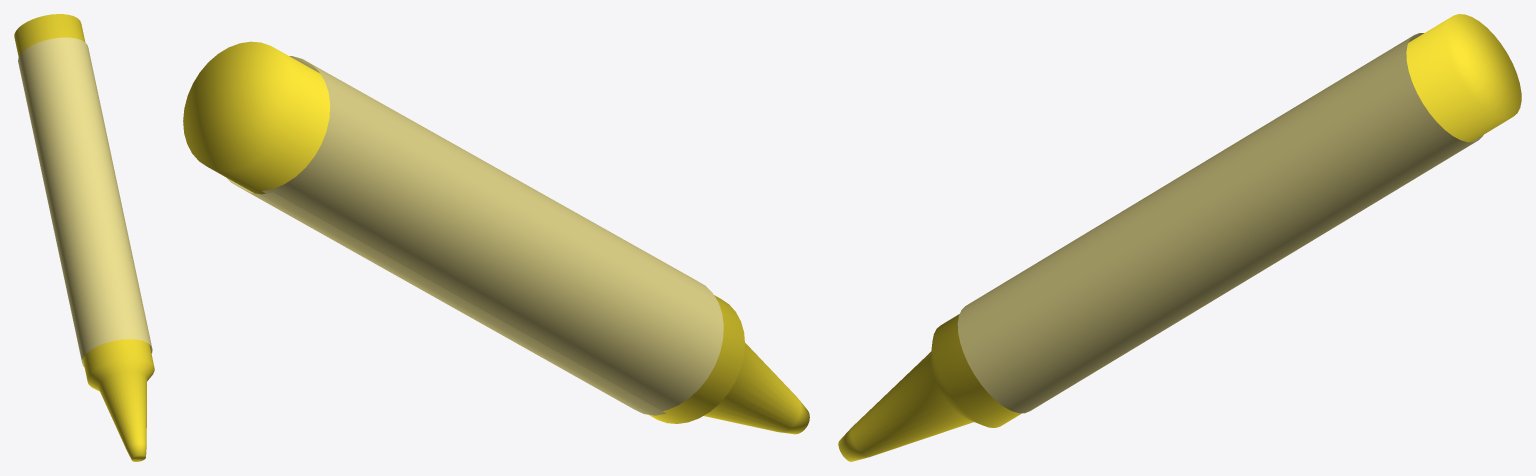
The picture shows the model from 3 angles, left to right: view 1: azimuth 30°, elevation 25°; view 2: azimuth 150°, elevation 25°; view 3: azimuth 270°, elevation 25°; orthographic projection. The views are drawn at different scales.
Visible parts, largest first — view 1: Yellow_Wrapper; view 2: Yellow_Wrapper; view 3: Yellow_Wrapper.
Boxes of the visible parts, bbox=[...] form: Yellow_Wrapper: bbox=[14, 14, 154, 461]; Yellow_Wrapper: bbox=[183, 41, 809, 434]; Yellow_Wrapper: bbox=[838, 14, 1521, 461].
Bounding box in the file's own units: 0.3837 × 0.8218 × 0.9881.
